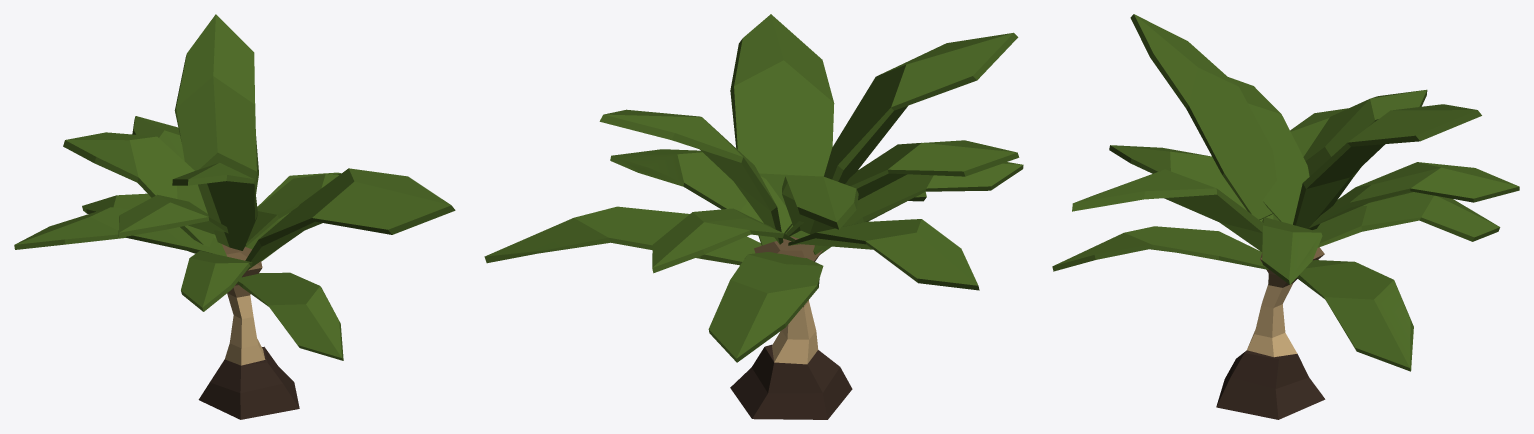
The model's file is island_bush_palm.fbx.
3 views of the same model, side by side, from view 1: azimuth 30°, elevation 25°; view 2: azimuth 150°, elevation 25°; view 3: azimuth 270°, elevation 25° (orthographic). The views are drawn at different scales.
Visible parts, largest first — view 1: Cube.008; view 2: Cube.008; view 3: Cube.008.
Part boxes in pixels (box(x1,y1,x2,y2)): Cube.008: box(14, 14, 455, 419); Cube.008: box(484, 14, 1023, 419); Cube.008: box(1052, 14, 1519, 419).
Bounding box in the file's own units: 262 × 189 × 252.
